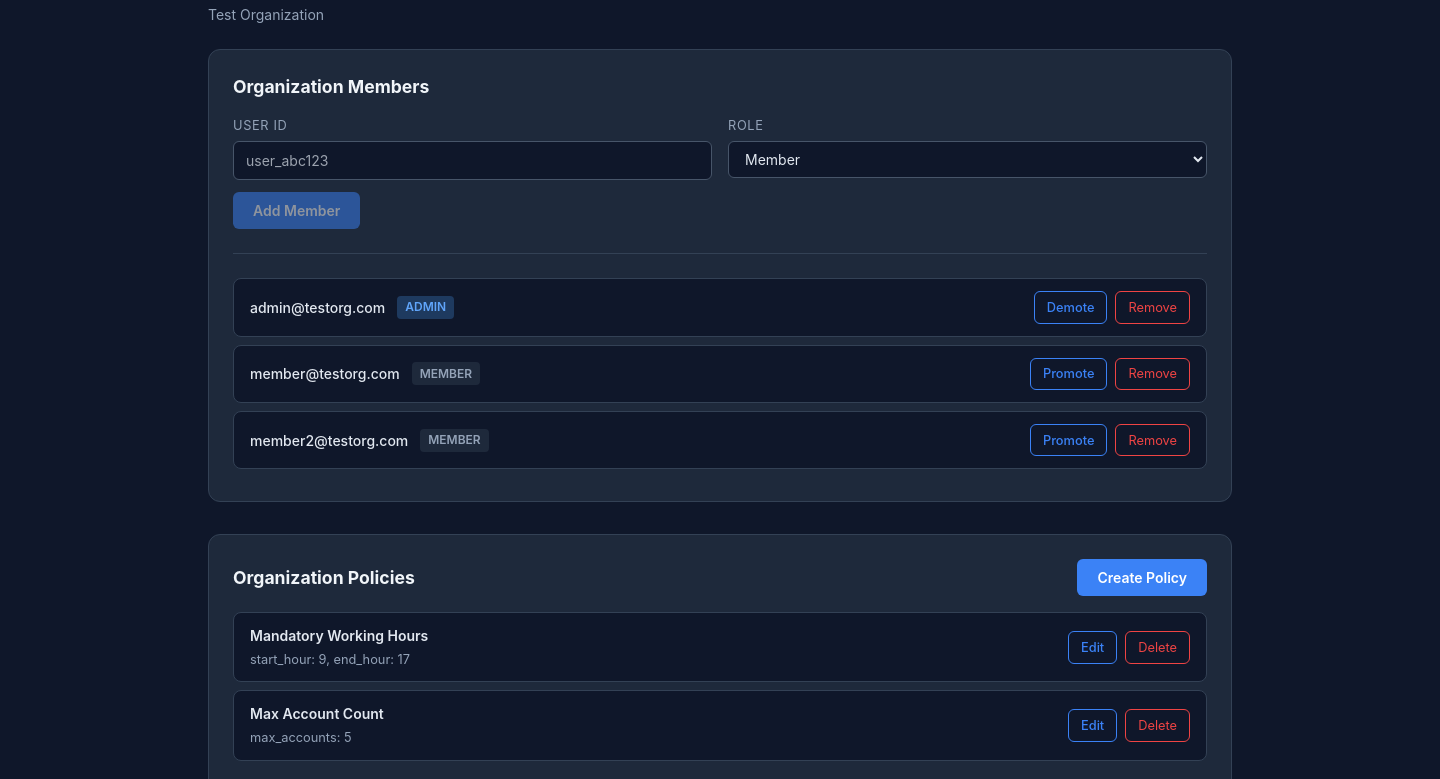
Test: AC2: Admin policy management › cancel button closes the form
Click the button with test id "create-policy-btn" at (1142, 578), box [1078,559,1207,596]
(page scrolled)
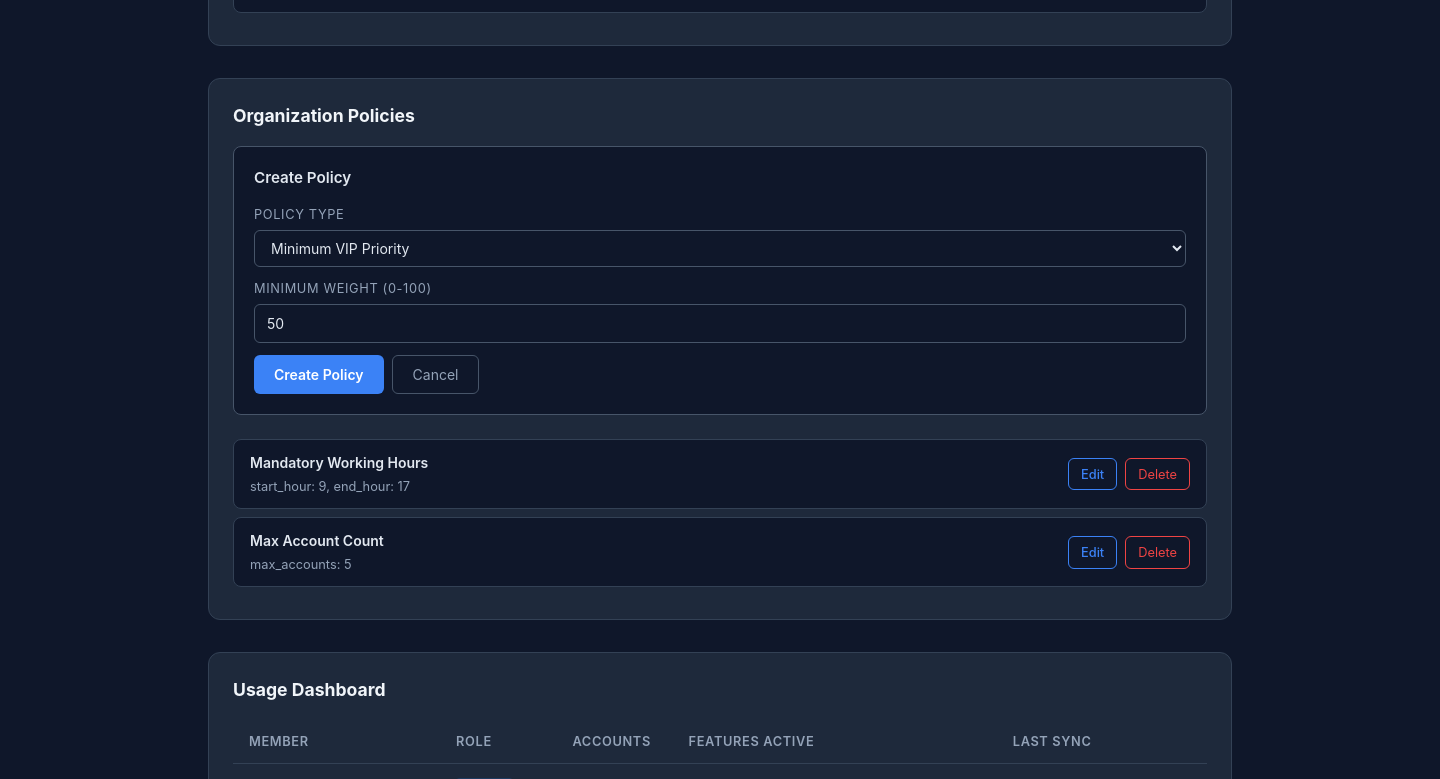
Now the element with test id "policy-form" is shown, box [233,146,1207,415]
Click the button with test id "policy-cancel-btn" at (435, 374), box [392,355,479,394]
(page scrolled)
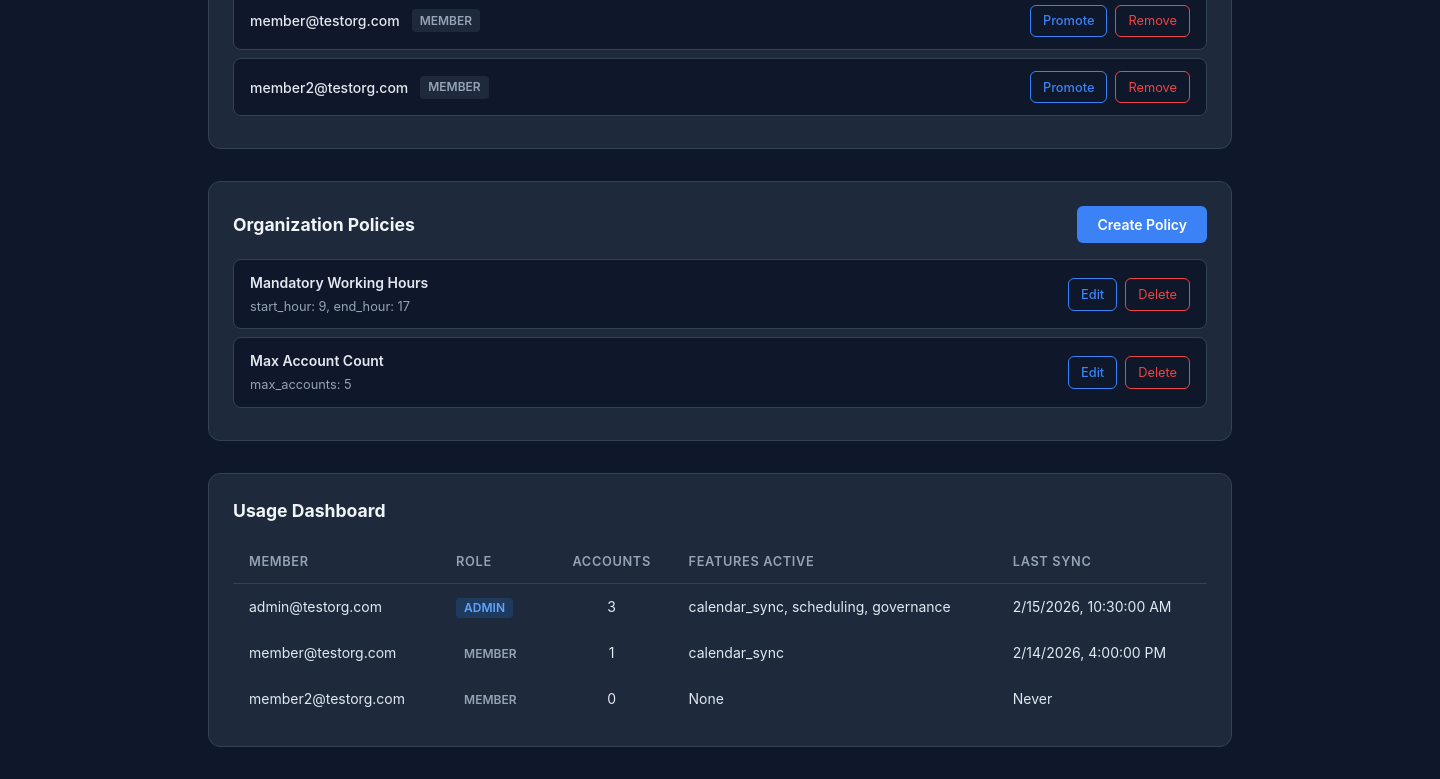
Now the element with test id "policy-form" is gone
